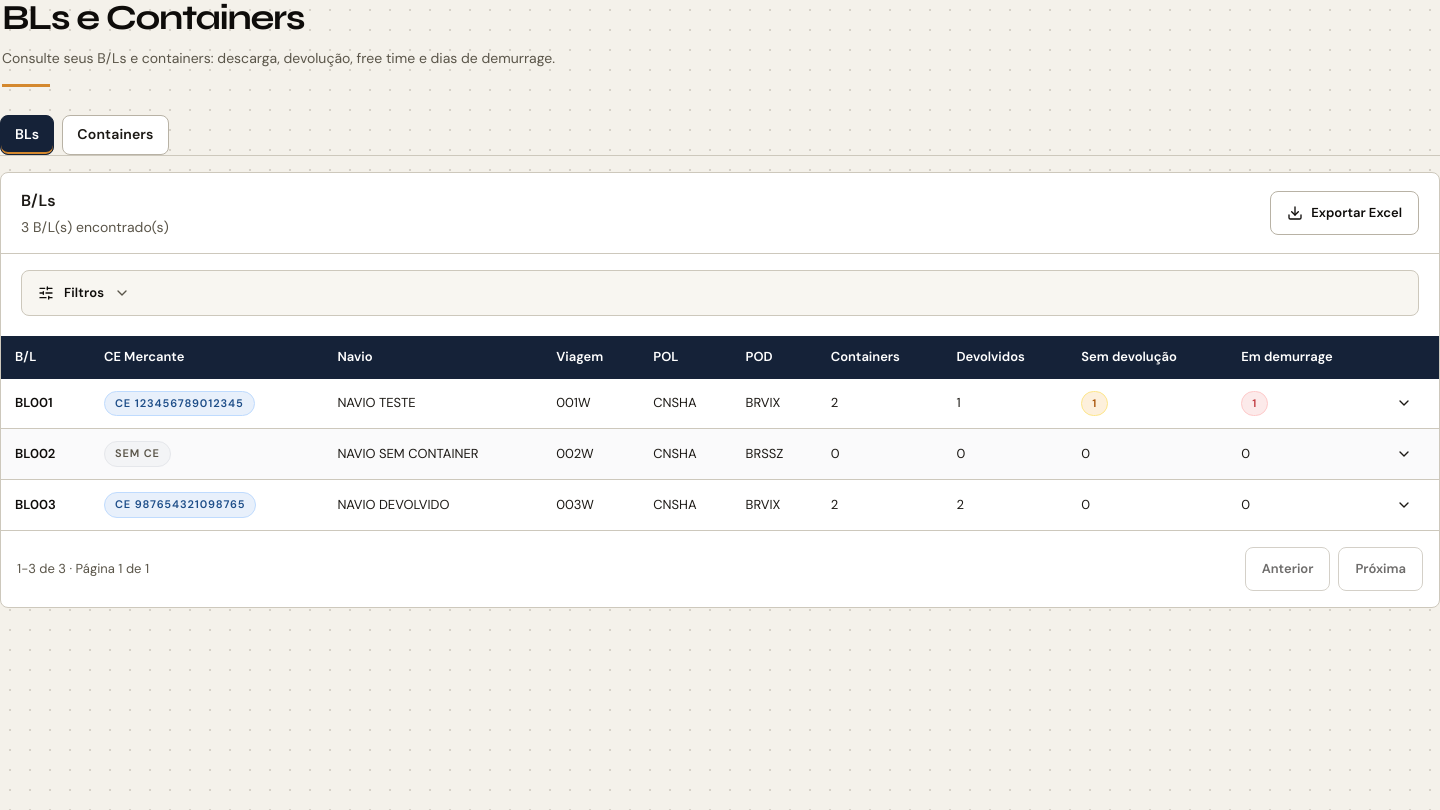
Test case: PortalOperacao (BLs e Containers) › exibe o card persistente de Informações de Transbordo na ficha do B/L
What coordinates should you click on to do the following:
click the text "BL001"
I would click on:
 (45, 404)
Its box is x1=1 y1=379 x2=90 y2=429.
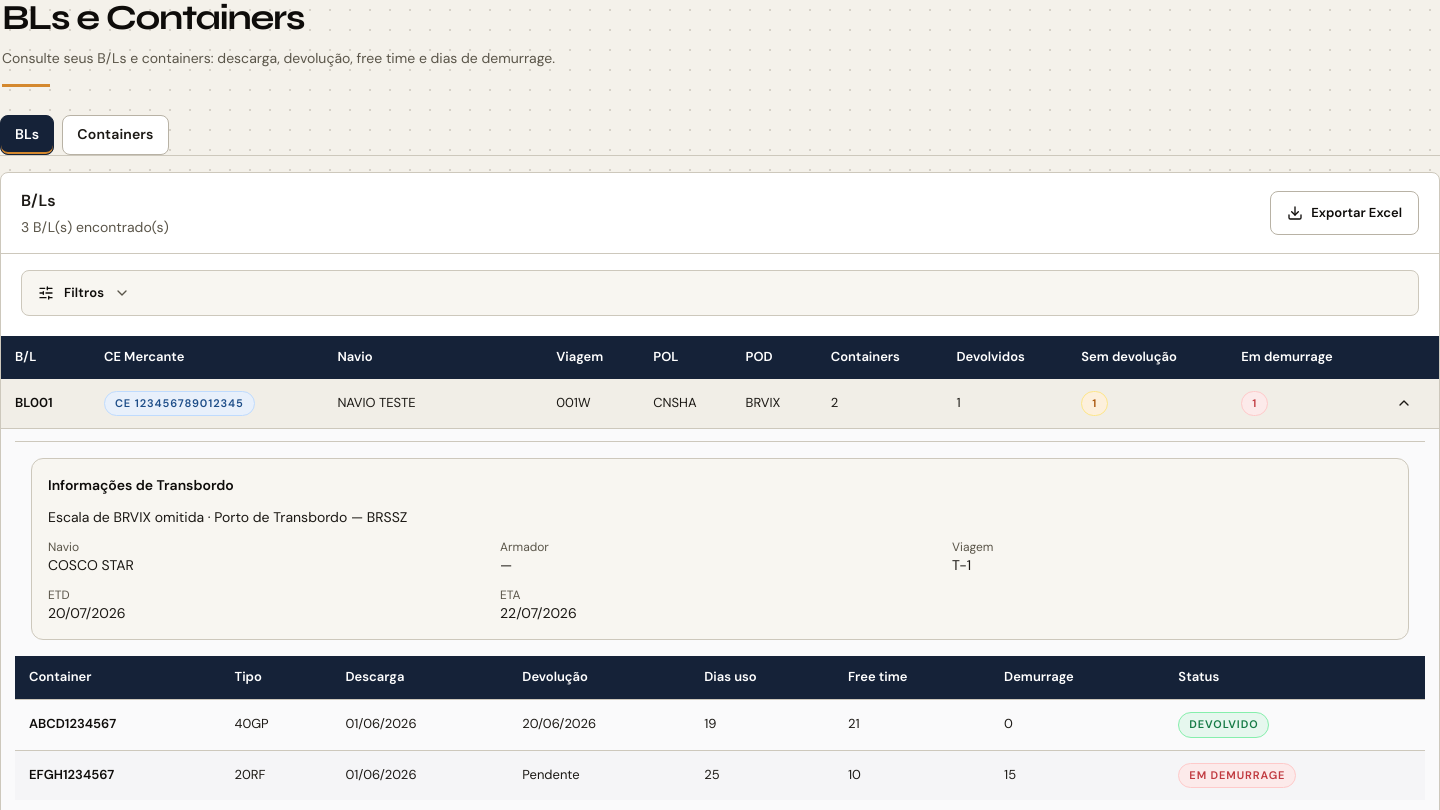
expect the heading "Informações de Transbordo" is shown: met, box x1=48 y1=476 x2=234 y2=494
expect the text "COSCO STAR" is shown: met, box x1=48 y1=556 x2=134 y2=574
expect the text "20/07/2026" is shown: met, box x1=48 y1=604 x2=126 y2=622
